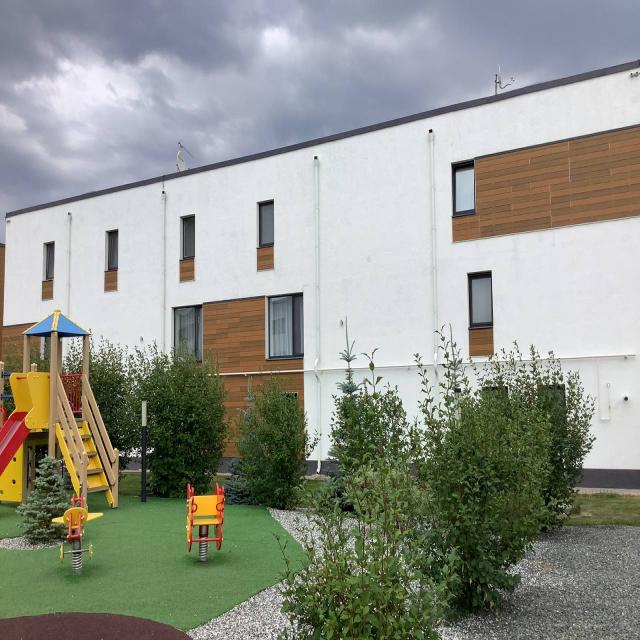Building: (5, 62, 640, 488)
